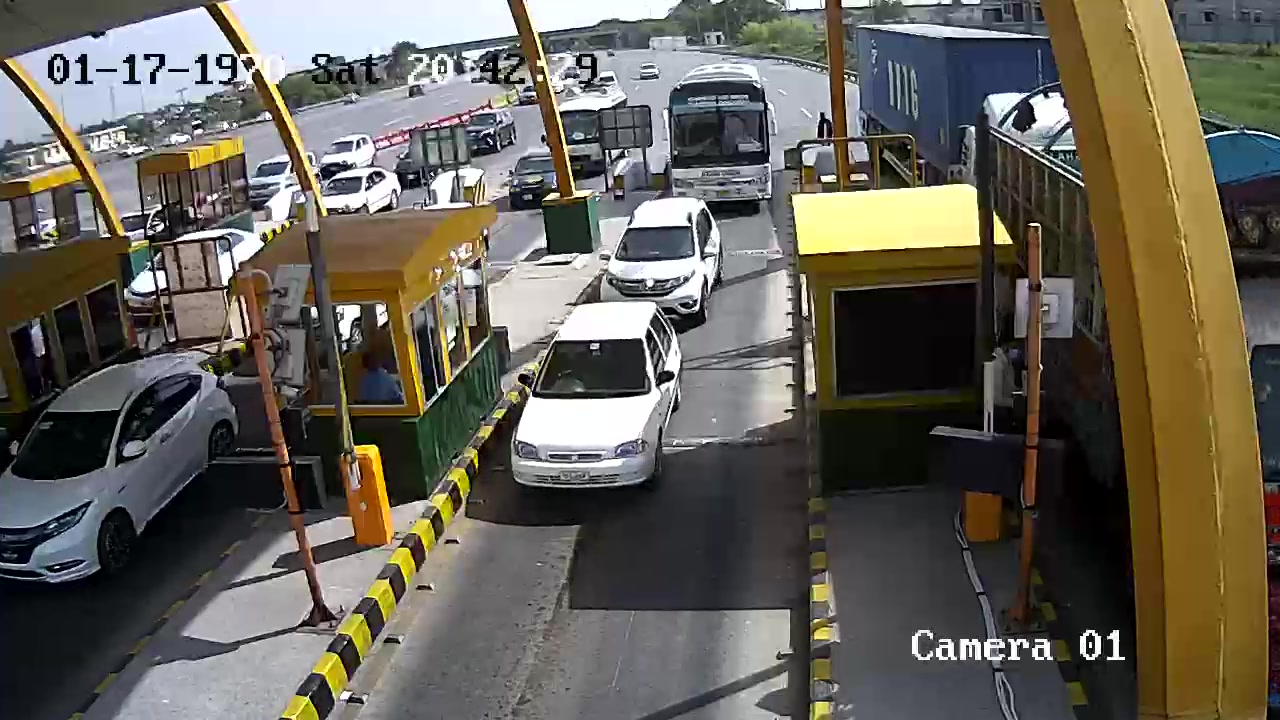F1: (499, 292, 694, 537)
